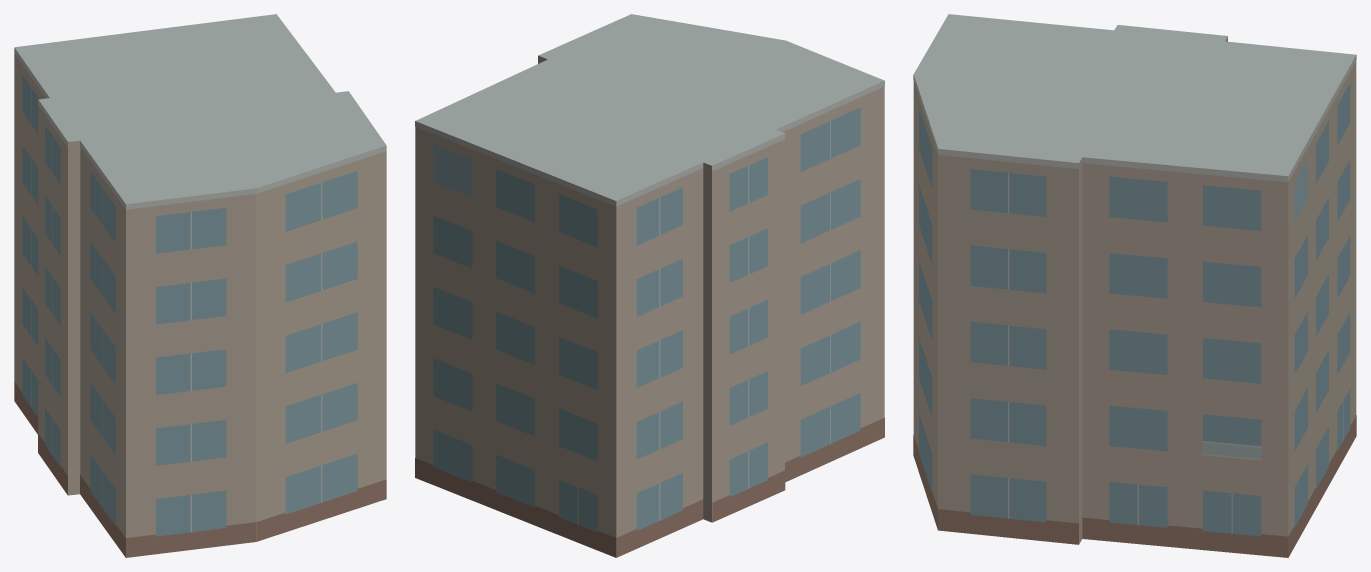
File: survey-upis-32967502.glb
The picture shows the model from 3 angles, left to right: view 1: azimuth 30°, elevation 25°; view 2: azimuth 150°, elevation 25°; view 3: azimuth 270°, elevation 25°; orthographic projection. The views are drawn at different scales.
Visible parts, largest first — view 1: survey-upis-32967502.tmp; view 2: survey-upis-32967502.tmp; view 3: survey-upis-32967502.tmp.
Boxes of the visible parts, box(x1,y1,x2,y2) form: survey-upis-32967502.tmp: box(14, 14, 386, 557); survey-upis-32967502.tmp: box(415, 14, 884, 557); survey-upis-32967502.tmp: box(913, 14, 1356, 557).
Size of the model in its own units: 14.23 by 15.6 by 16.41.
